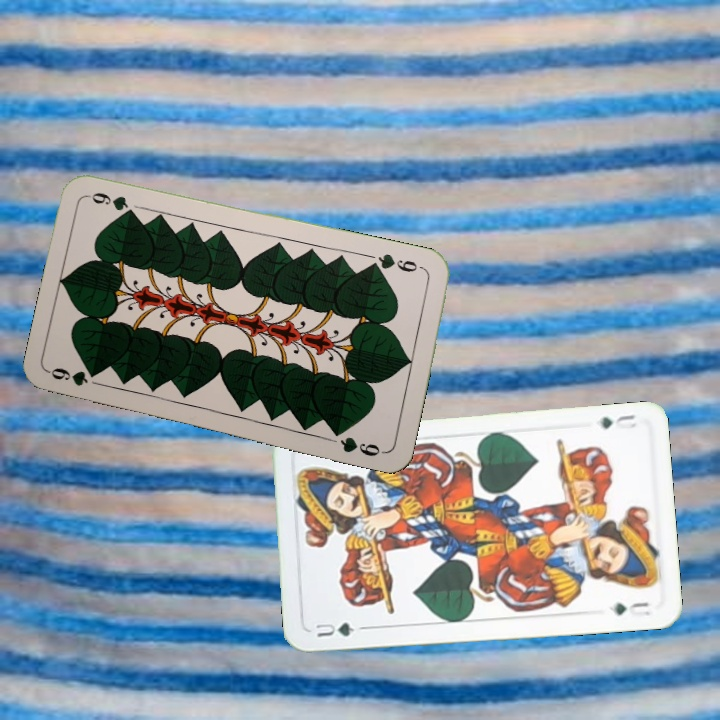G9: (367, 249, 427, 275), (47, 364, 91, 389)
GU: (311, 618, 357, 640), (597, 410, 639, 432)
